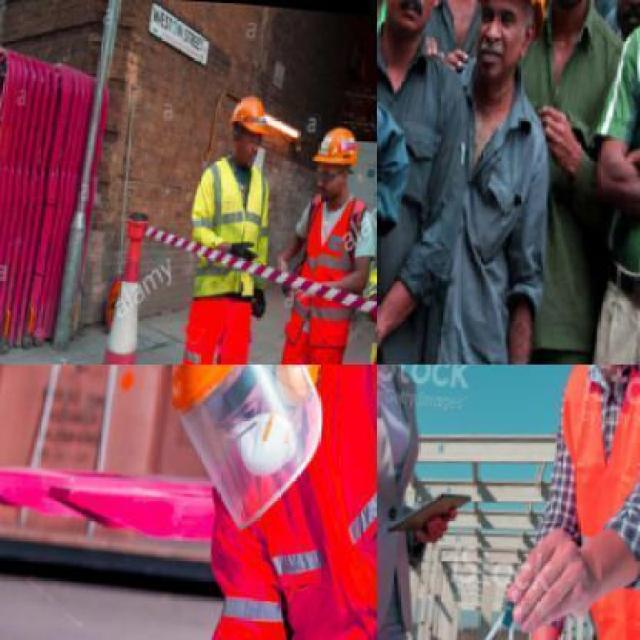Vest: (178, 364, 376, 638), (530, 364, 638, 638), (186, 143, 285, 299), (297, 180, 372, 306)
